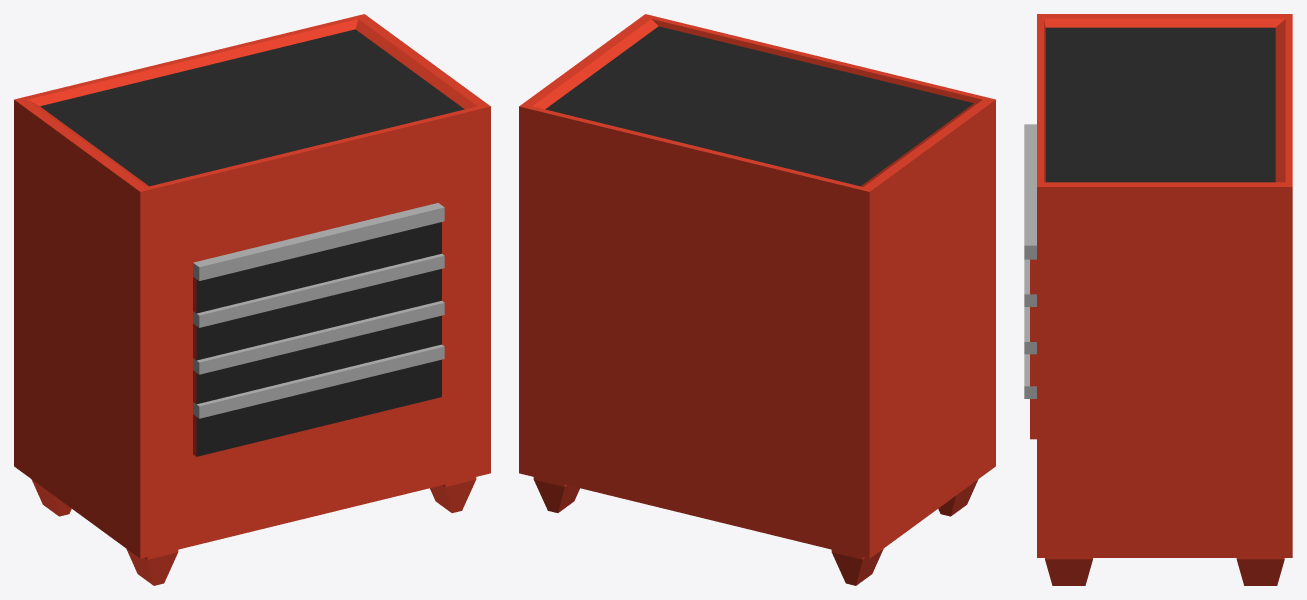
Rendered from Toolbox.fbx.
3 renders of one model, left to right at view 1: azimuth 30°, elevation 25°; view 2: azimuth 150°, elevation 25°; view 3: azimuth 270°, elevation 25°, orthographic.
Parts seen in each view (by area): view 1: Cube; view 2: Cube; view 3: Cube.
Part boxes in pixels (x1,y1,x2,y2): Cube: [14, 14, 490, 585]; Cube: [519, 14, 995, 585]; Cube: [1024, 14, 1292, 585].
Bounding box in the file's own units: 200 × 221 × 131.
